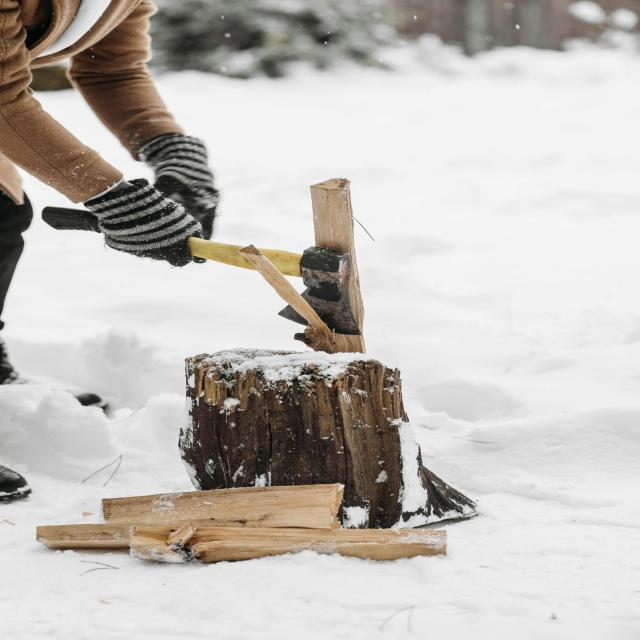Axe: (261, 246, 359, 334), (189, 239, 255, 269), (279, 305, 306, 324)
